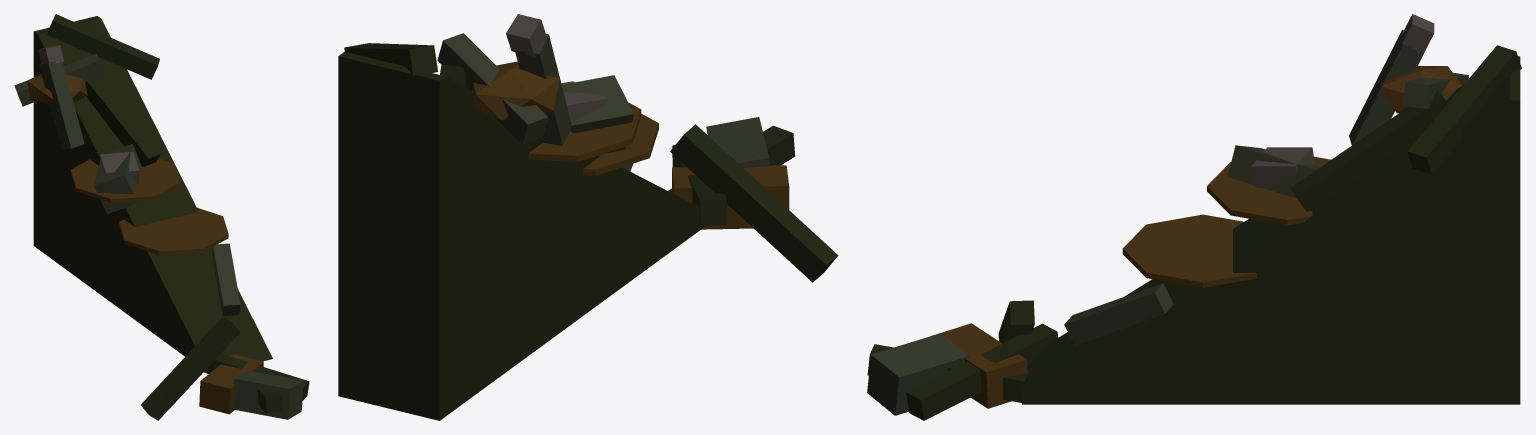
Rendered from SM_PilaZombi_Altura3_s1_LOD1.fbx.
3 views of the same model, side by side, from view 1: azimuth 30°, elevation 25°; view 2: azimuth 150°, elevation 25°; view 3: azimuth 270°, elevation 25° (orthographic). The views are drawn at different scales.
Parts seen in each view (by area): view 1: SM_pila_zombis_v7_LOD1; view 2: SM_pila_zombis_v7_LOD1; view 3: SM_pila_zombis_v7_LOD1.
Part boxes in pixels (x1=…): SM_pila_zombis_v7_LOD1: x1=14, y1=14, x2=309, y2=420; SM_pila_zombis_v7_LOD1: x1=338, y1=14, x2=838, y2=420; SM_pila_zombis_v7_LOD1: x1=867, y1=14, x2=1521, y2=420.
Bounding box in the file's own units: 1.32 × 2.01 × 3.26.
